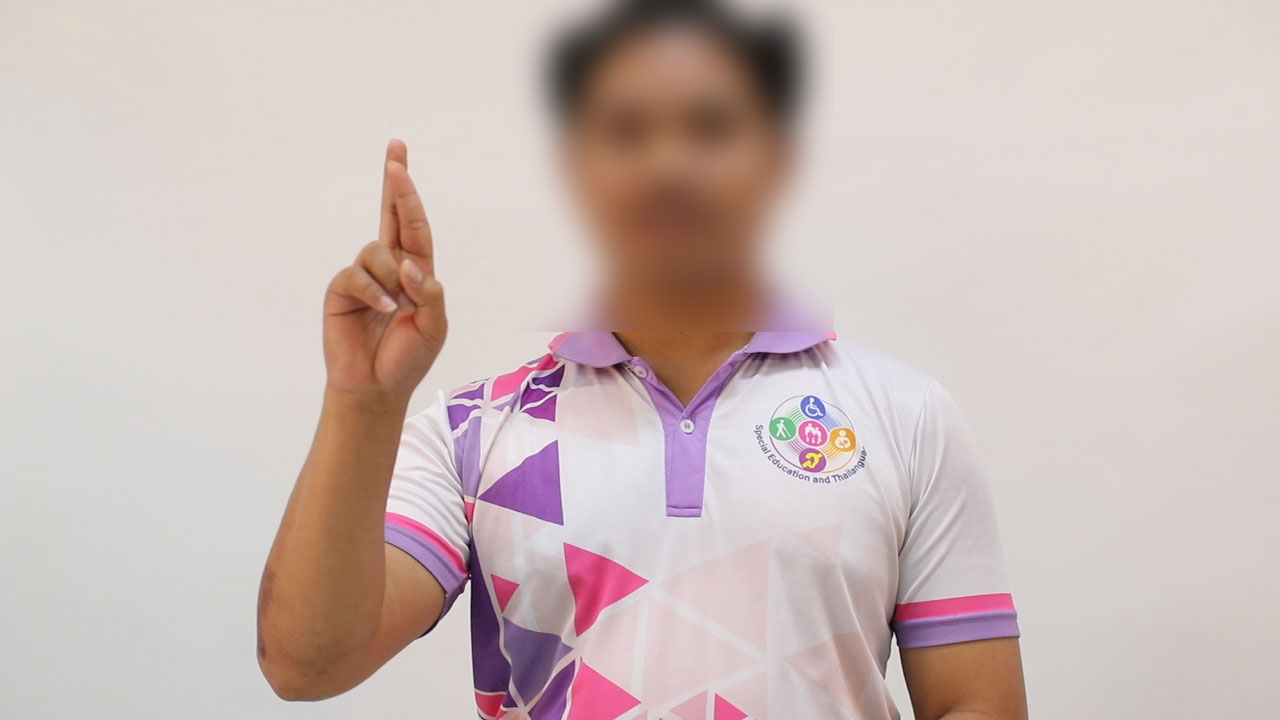rao: (310, 130, 460, 414)
